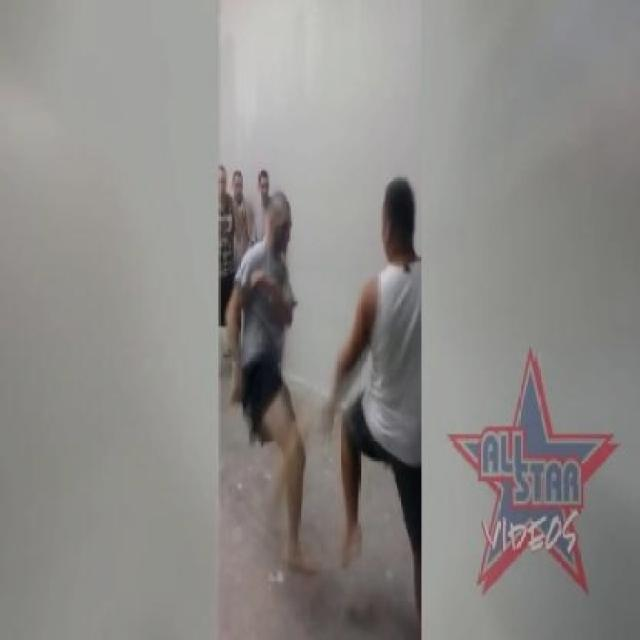fight: (229, 174, 420, 586)
